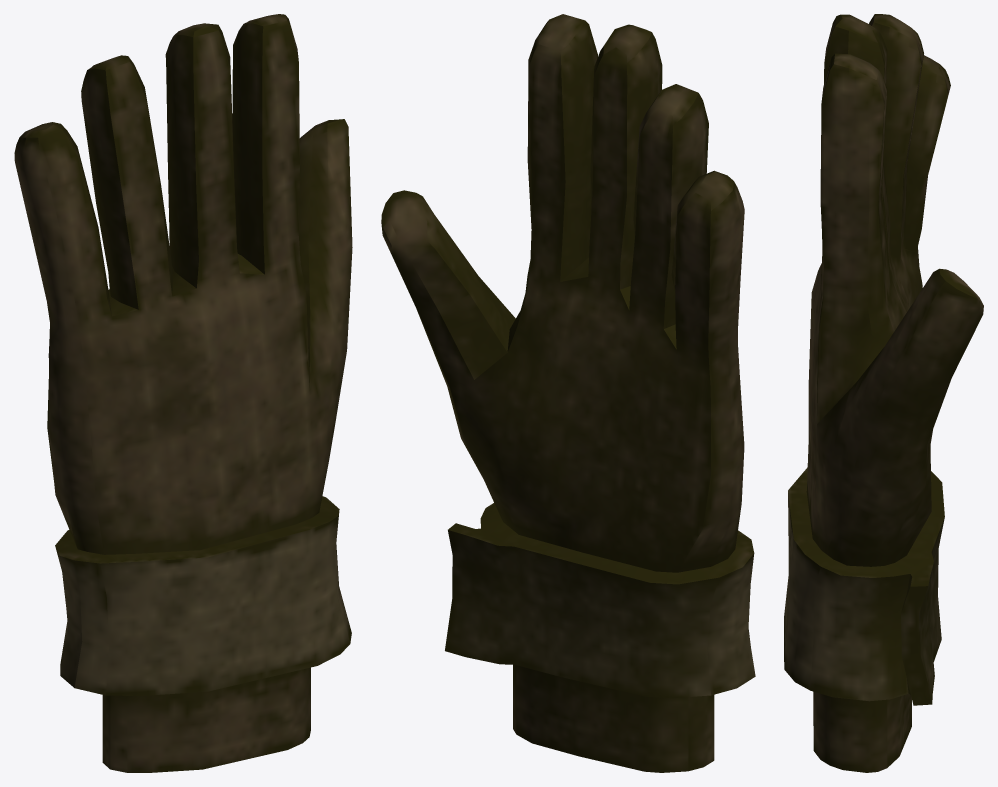
The model's file is Left Protective Glove.fbx.
3 views of the same model, side by side, from view 1: azimuth 30°, elevation 25°; view 2: azimuth 150°, elevation 25°; view 3: azimuth 270°, elevation 25° (orthographic). The views are drawn at different scales.
Visible parts, largest first — view 1: Left Protective Glove; view 2: Left Protective Glove; view 3: Left Protective Glove.
Part boxes in pixels (bbox=[...]): Left Protective Glove: bbox=[14, 14, 352, 772]; Left Protective Glove: bbox=[381, 14, 755, 772]; Left Protective Glove: bbox=[784, 14, 983, 772].
Size of the model in its own units: 10.92 by 22.35 by 5.75.
